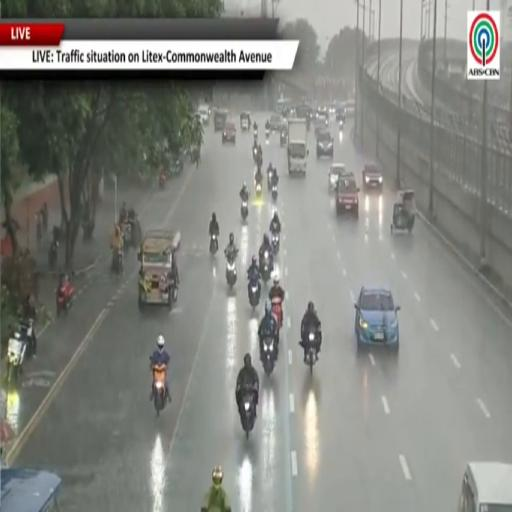car: (355, 287, 400, 350), (459, 462, 511, 511), (336, 174, 359, 218), (328, 164, 354, 191), (363, 163, 383, 190), (316, 130, 333, 158), (296, 104, 312, 130), (313, 112, 329, 135), (214, 109, 228, 132), (222, 122, 236, 143), (198, 104, 209, 125), (270, 115, 282, 132), (335, 107, 345, 122), (329, 102, 339, 115)
jeepney: (138, 230, 180, 309), (0, 469, 61, 511)
motorcycle: (6, 323, 33, 382), (153, 365, 166, 417), (241, 390, 255, 438), (56, 281, 74, 315), (262, 336, 276, 375), (306, 331, 317, 374), (260, 251, 272, 283), (226, 255, 236, 289), (111, 248, 123, 275), (249, 281, 260, 310), (48, 239, 58, 270), (272, 297, 282, 328), (123, 222, 131, 252), (271, 232, 279, 254), (210, 234, 218, 255), (241, 200, 248, 220), (159, 173, 167, 189), (267, 169, 273, 189), (255, 182, 262, 197), (256, 152, 262, 169), (271, 185, 277, 200), (253, 148, 258, 163), (339, 120, 344, 131), (265, 128, 270, 138), (254, 128, 257, 140)
truck: (288, 119, 308, 174)
